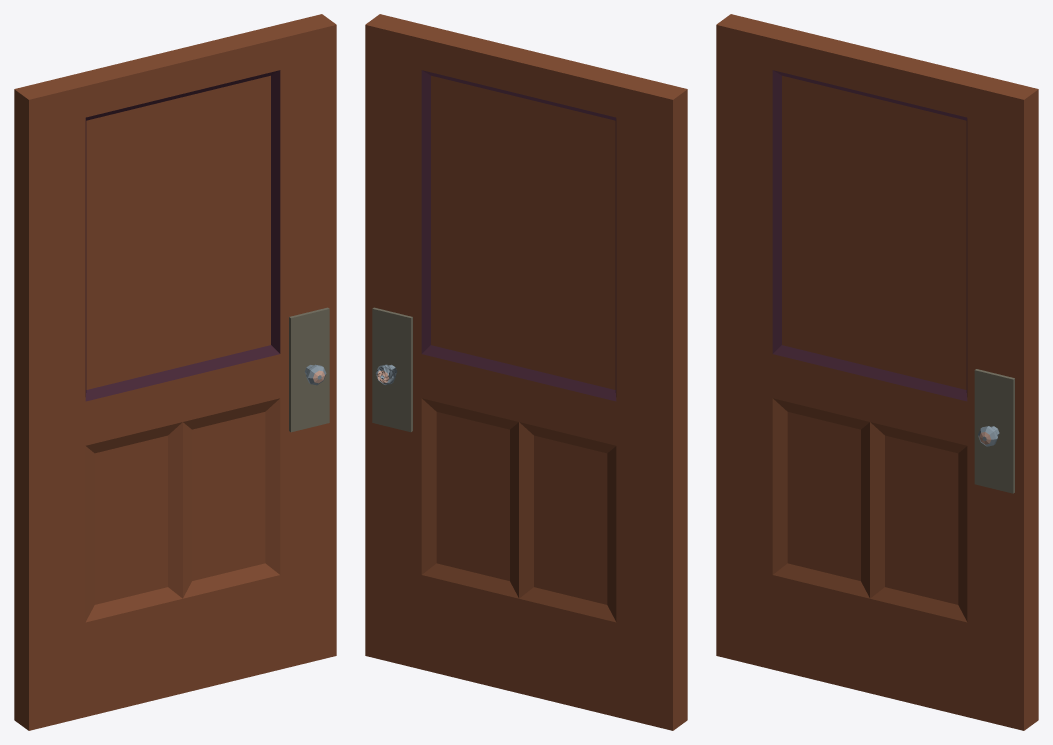
Rendered from door_02.glb.
The picture shows the model from 3 angles, left to right: view 1: azimuth 30°, elevation 25°; view 2: azimuth 150°, elevation 25°; view 3: azimuth 330°, elevation 25°; orthographic projection.
Parts seen in each view (by area): view 1: Door_02; view 2: Door_02; view 3: Door_02.
Part boxes in pixels (left/top/right/bottom): Door_02: left=14, top=14, right=336, bottom=730; Door_02: left=365, top=14, right=687, bottom=730; Door_02: left=716, top=14, right=1038, bottom=730.
Bounding box in the file's own units: 1.16 × 2.28 × 0.2417.
1 material, 1 textured.
